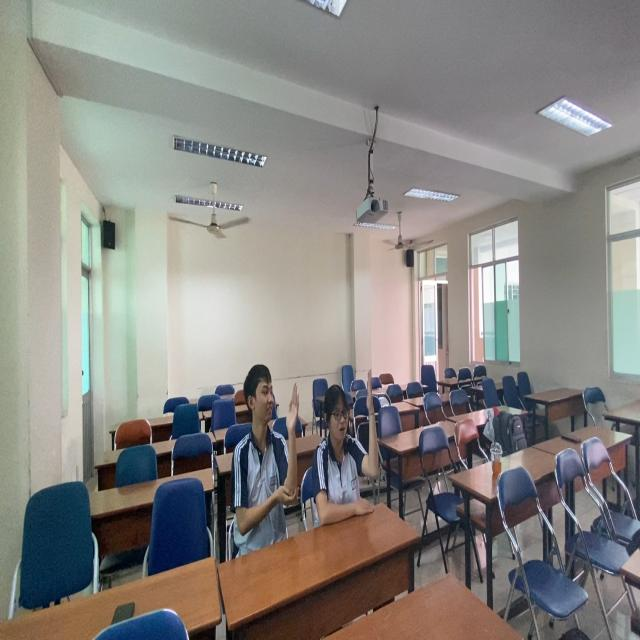raise_hand: (214, 362, 306, 551), (320, 369, 388, 514)
